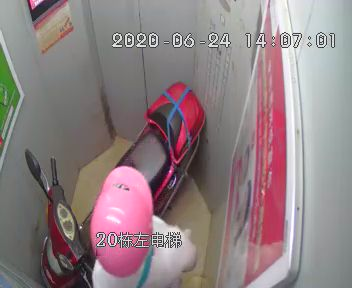Electric-bicycle: (27, 84, 198, 281)
